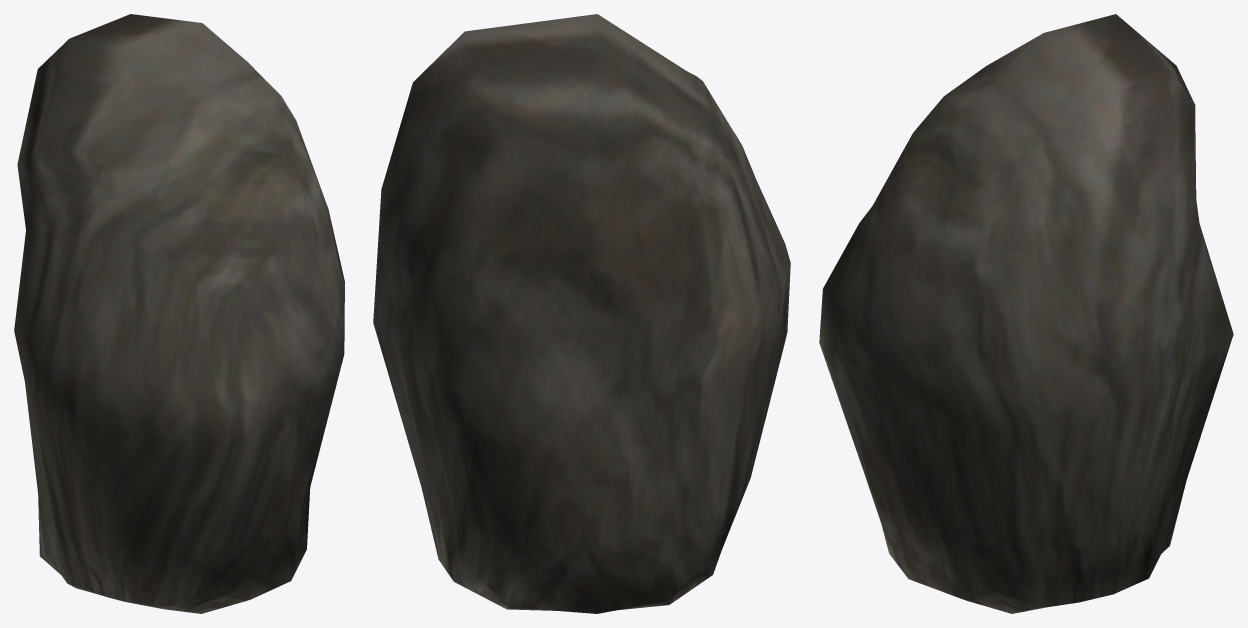
File: Stone15Shape.dae
3 views of the same model, side by side, from view 1: azimuth 30°, elevation 25°; view 2: azimuth 150°, elevation 25°; view 3: azimuth 270°, elevation 25° (orthographic). The views are drawn at different scales.
Visible parts, largest first — view 1: Stone15; view 2: Stone15; view 3: Stone15.
Part boxes in pixels (left/top/right/bottom): Stone15: left=14, top=14, right=344, bottom=613; Stone15: left=373, top=14, right=790, bottom=613; Stone15: left=819, top=14, right=1233, bottom=613.
Size of the model in its own units: 6.61 by 10.28 by 7.29.
